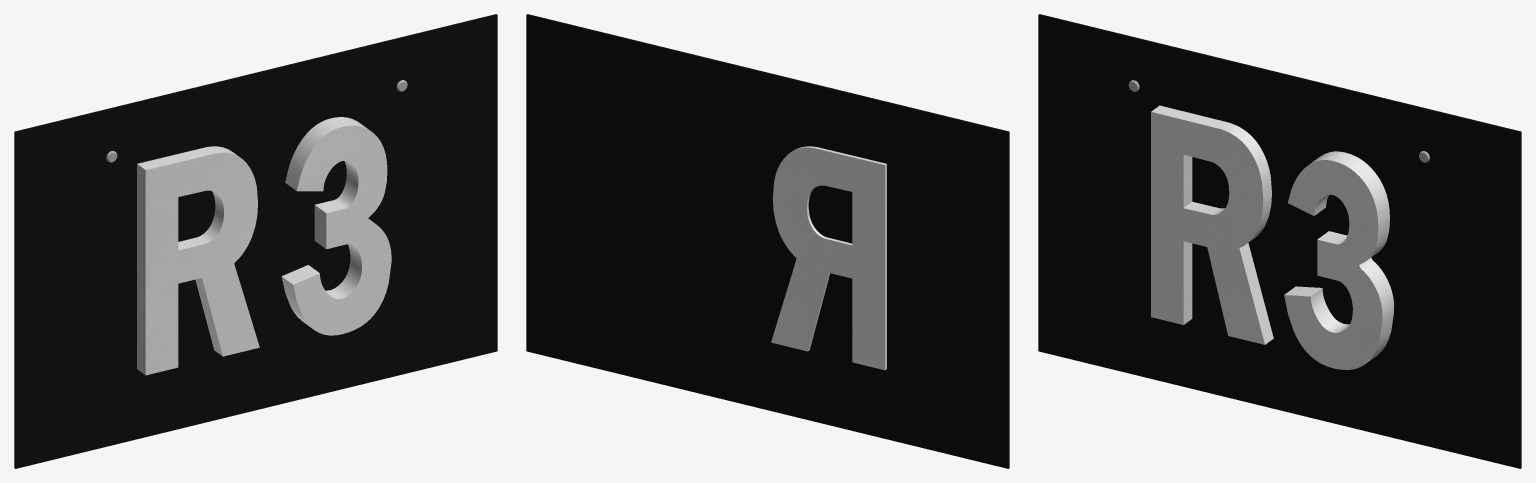
File: room_plate3.glb
The picture shows the model from 3 angles, left to right: view 1: azimuth 30°, elevation 25°; view 2: azimuth 150°, elevation 25°; view 3: azimuth 330°, elevation 25°; orthographic projection.
Parts seen in each view (by area): view 1: NumberPlateTwoRow_38, Object_18, Object_4; view 2: NumberPlateTwoRow_38, Object_18; view 3: NumberPlateTwoRow_38, Object_18, Object_4.
Part boxes in pixels (x1,y1,x2,y2): NumberPlateTwoRow_38: (14,14,497,468); Object_18: (137,146,259,375); Object_4: (281,117,391,335); NumberPlateTwoRow_38: (526,14,1009,468); Object_18: (771,146,886,370); NumberPlateTwoRow_38: (1038,14,1521,468); Object_18: (1151,105,1273,344); Object_4: (1284,151,1394,369).
Bounding box in the file's own units: 0.2181 × 0.1454 × 0.0149.
Materials: 2 (2 with a texture image).
